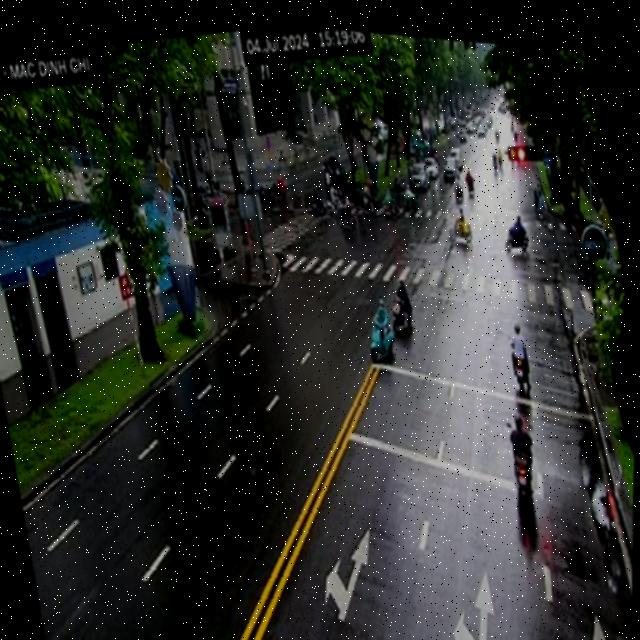Red: (504, 121, 549, 163)
